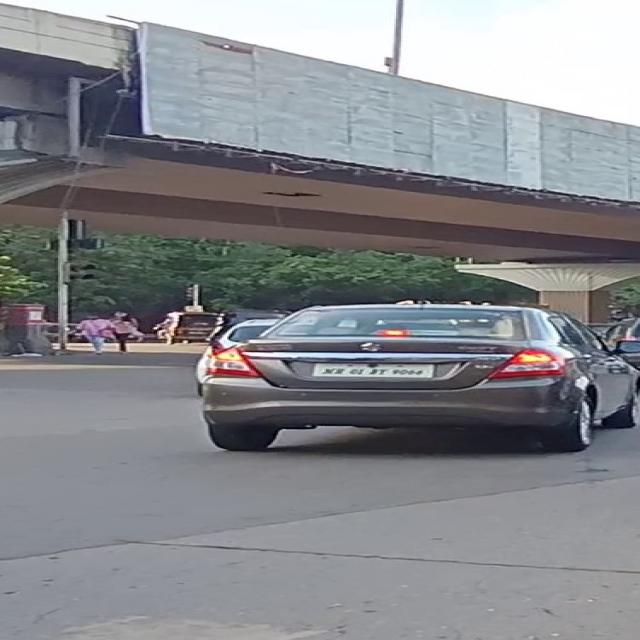Plate: (312, 363, 435, 378)
